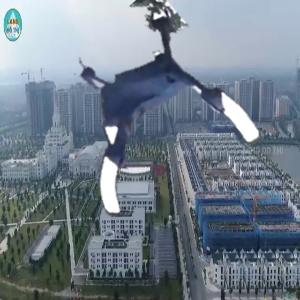drone: (52, 24, 241, 213)
